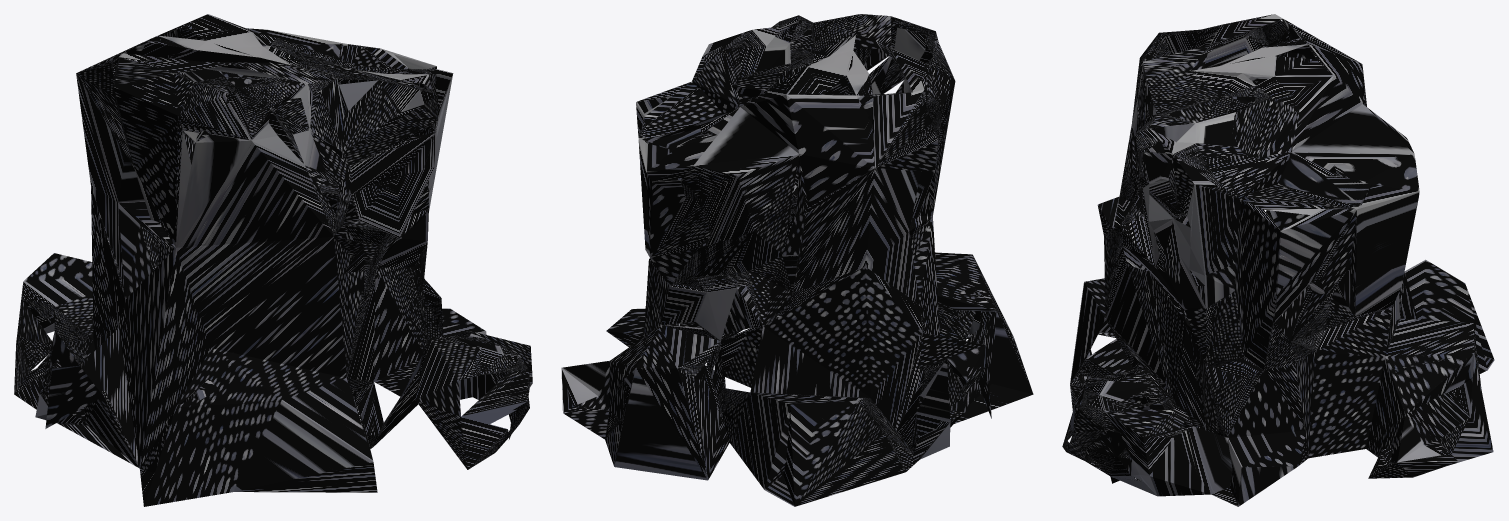
File: cliff_rock_lod1.glb
The picture shows the model from 3 angles, left to right: view 1: azimuth 30°, elevation 25°; view 2: azimuth 150°, elevation 25°; view 3: azimuth 270°, elevation 25°; orthographic projection. The views are drawn at different scales.
Visible parts, largest first — view 1: geometry_0; view 2: geometry_0; view 3: geometry_0.
Boxes of the visible parts, x1=… form: geometry_0: x1=14, y1=14, x2=532, y2=506; geometry_0: x1=561, y1=14, x2=1033, y2=506; geometry_0: x1=1062, y1=14, x2=1494, y2=506.
Size of the model in its own units: 3.88 by 3.48 by 3.87.
1 material, 1 textured.
